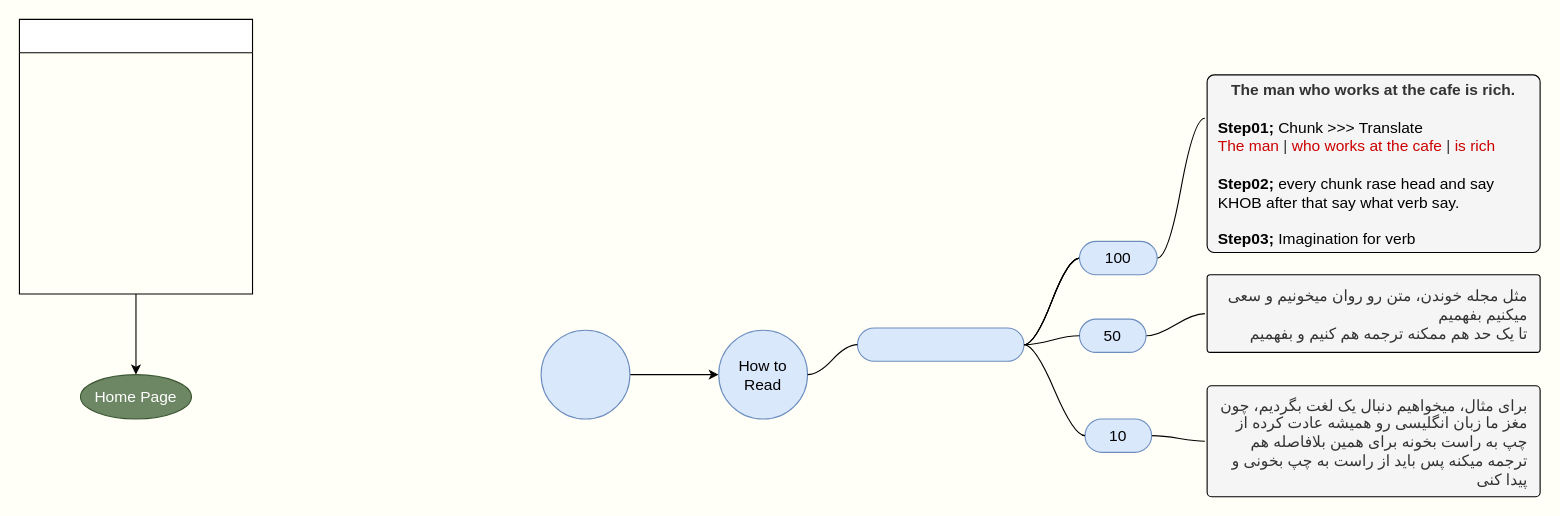
This 1560x516 diagram has some shape labels left out. The shapes that lost their labels are listed below. From the top down, each one's centre as x and y in pixels, then its label:
At point 135,156: "Guid".
At point 940,344: "3 type of reading".
At point 585,374: "Reading".
